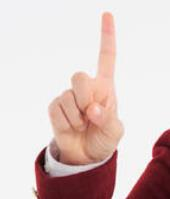up: (46, 9, 126, 166)
